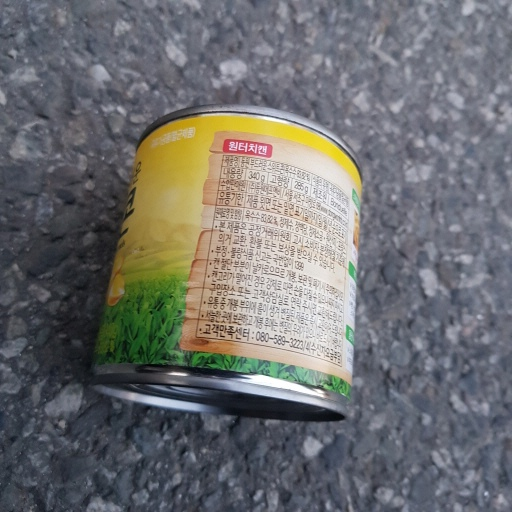Metal_1: (90, 104, 365, 428)
